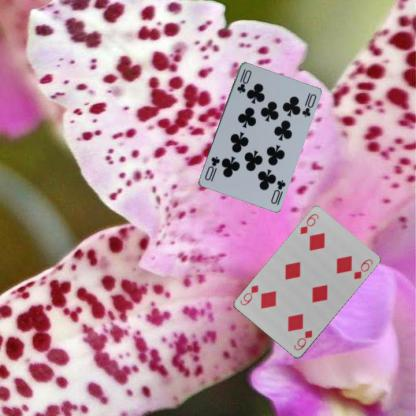10c: (268, 176, 287, 206), (234, 66, 252, 94)
6d: (291, 327, 314, 352), (298, 211, 320, 236)
